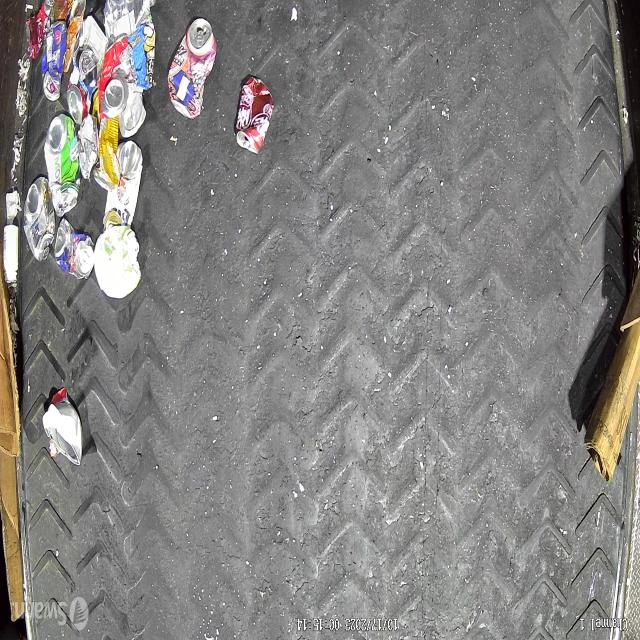can: (168, 17, 217, 119), (44, 113, 80, 217), (104, 140, 144, 232), (99, 34, 137, 119), (235, 74, 274, 154), (93, 88, 120, 192), (23, 176, 55, 261), (55, 217, 94, 280), (41, 20, 66, 100), (103, 0, 151, 40), (26, 0, 55, 60), (67, 66, 93, 125), (119, 86, 146, 138), (75, 46, 98, 84)
